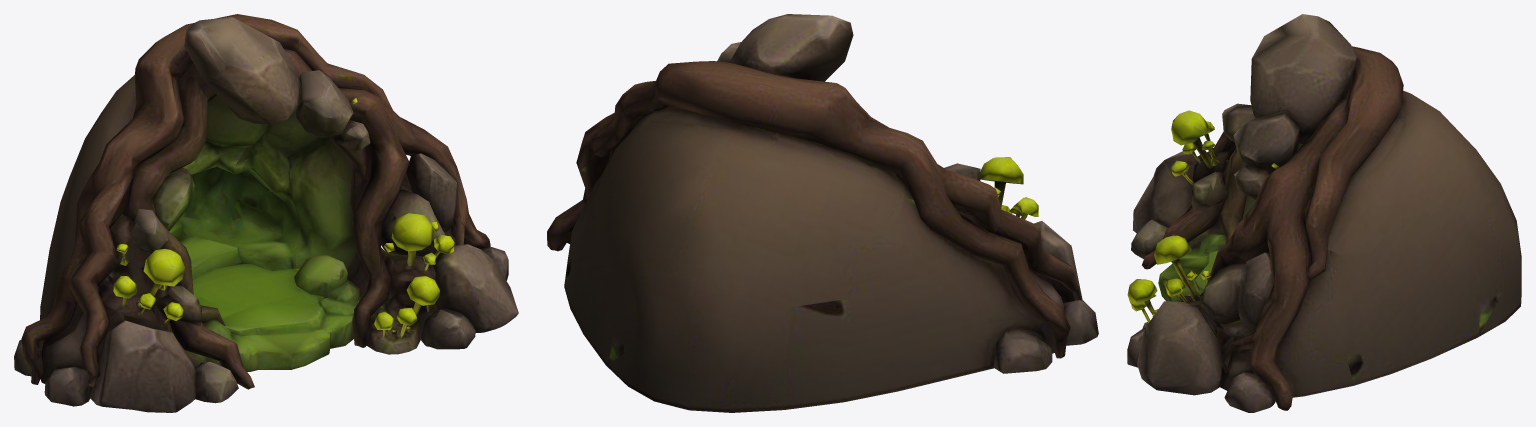
Rendered from crypt-root-arch.glb.
The picture shows the model from 3 angles, left to right: view 1: azimuth 30°, elevation 25°; view 2: azimuth 150°, elevation 25°; view 3: azimuth 270°, elevation 25°; orthographic projection. The views are drawn at different scales.
Visible parts, largest first — view 1: 09_green_cave_LOD1_P2_09_green_cave; view 2: 09_green_cave_LOD1_P2_09_green_cave; view 3: 09_green_cave_LOD1_P2_09_green_cave.
Part boxes in pixels (x1=…): 09_green_cave_LOD1_P2_09_green_cave: x1=14, y1=14, x2=518, y2=412; 09_green_cave_LOD1_P2_09_green_cave: x1=547, y1=14, x2=1098, y2=412; 09_green_cave_LOD1_P2_09_green_cave: x1=1127, y1=14, x2=1521, y2=412.
Bounding box in the file's own units: 0.9995 × 0.5905 × 0.7659.
1 material, 1 textured.
